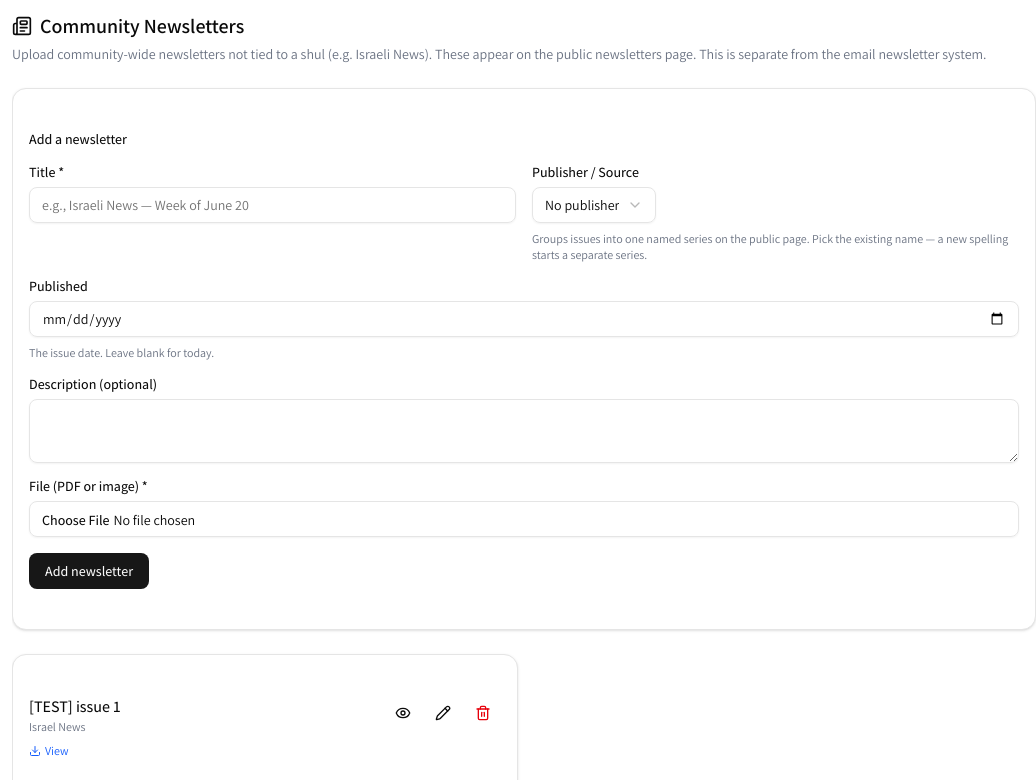
Test: admin community newsletters › lets a publisher be chosen without typing it
The width and height of the screenshot is (1036, 780).
Expected: the text "[TEST] issue 1" is shown, left=29, top=695, right=120, bottom=719
What coordinates should you click on to do the following:
click the dropdown named "Publisher / Source"
I would click on:
 (594, 205)
Its box is left=532, top=187, right=656, bottom=223.
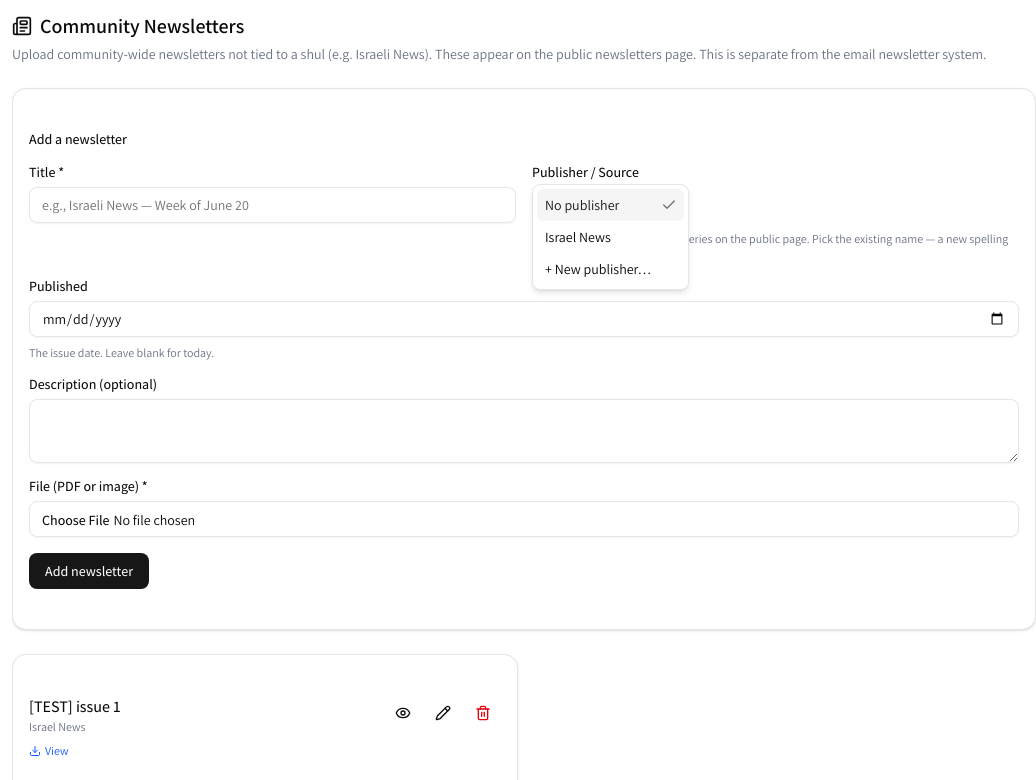
What coordinates should you click on to do the following:
click the option "Israel News"
I would click on:
 (578, 237)
Its box is left=545, top=228, right=611, bottom=246.
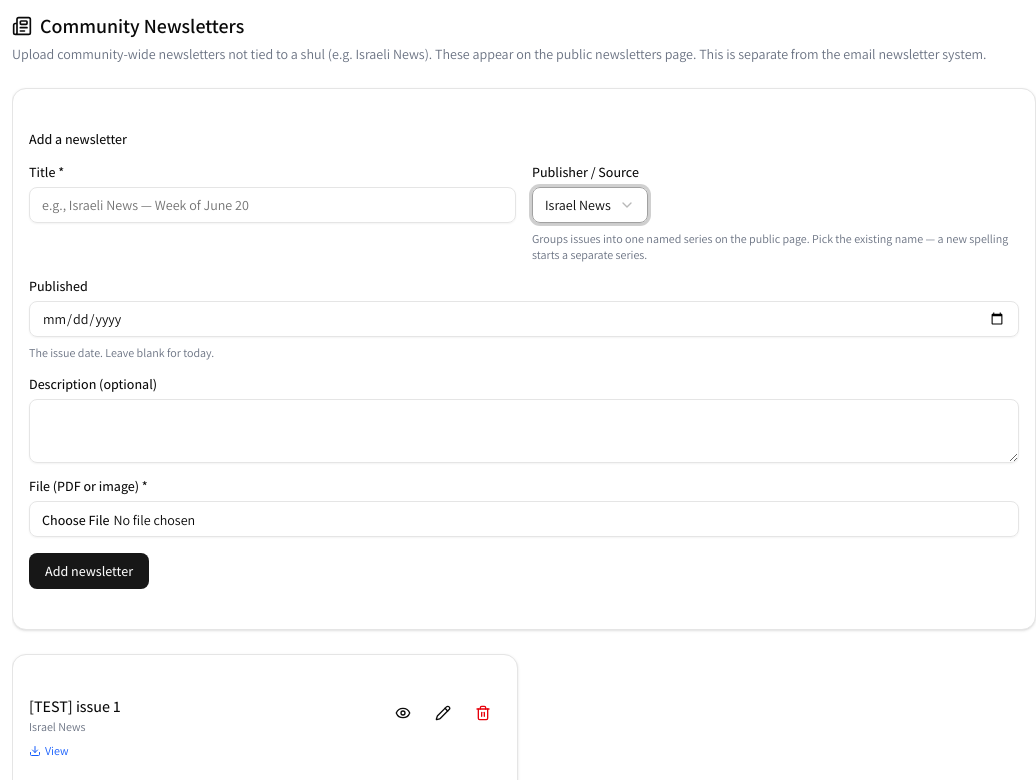
Expected: the dropdown named "Publisher / Source" reads "Israel News", left=532, top=187, right=648, bottom=223
